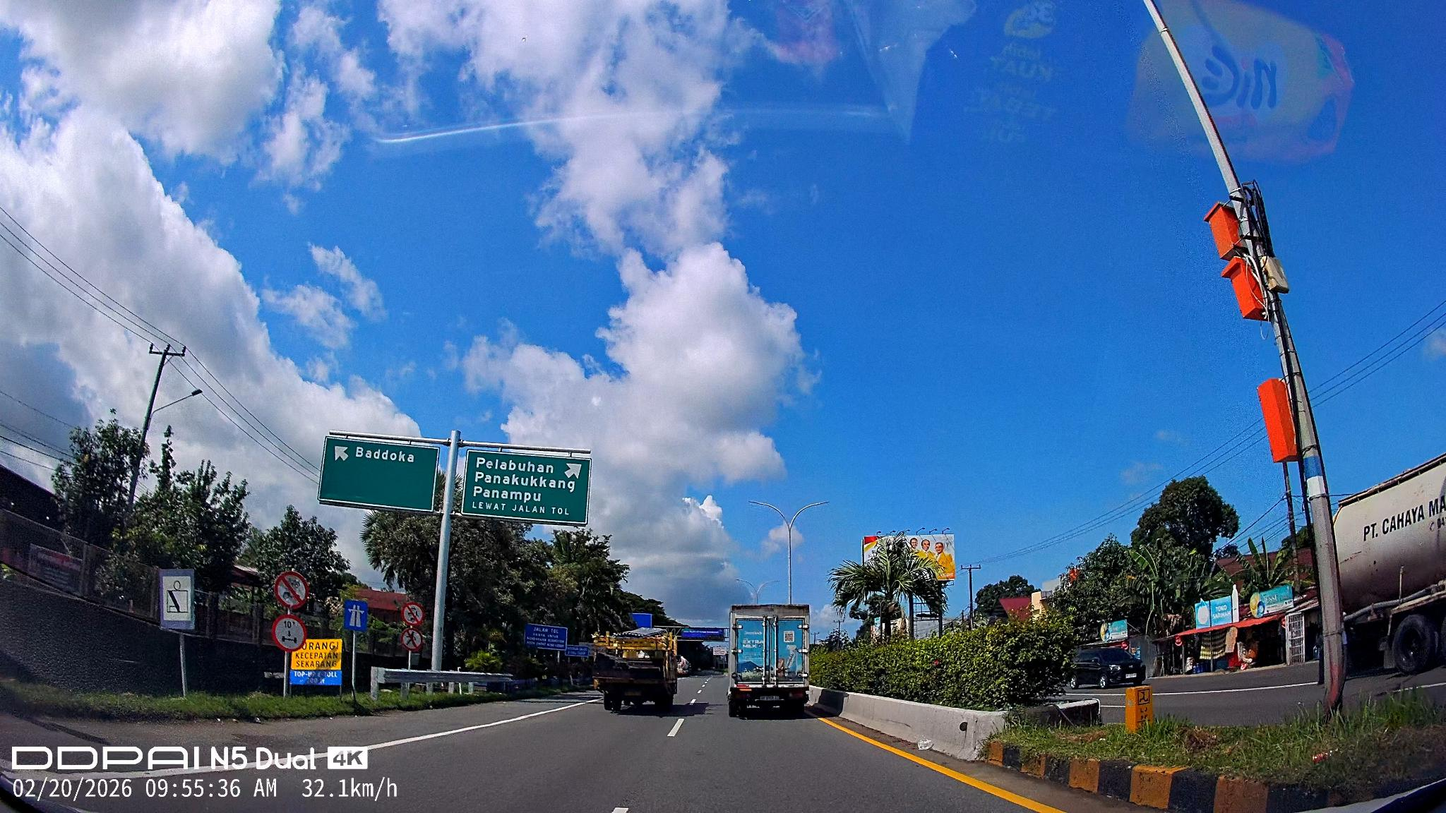rambu_teks: (459, 449, 593, 527), (316, 435, 441, 513)
